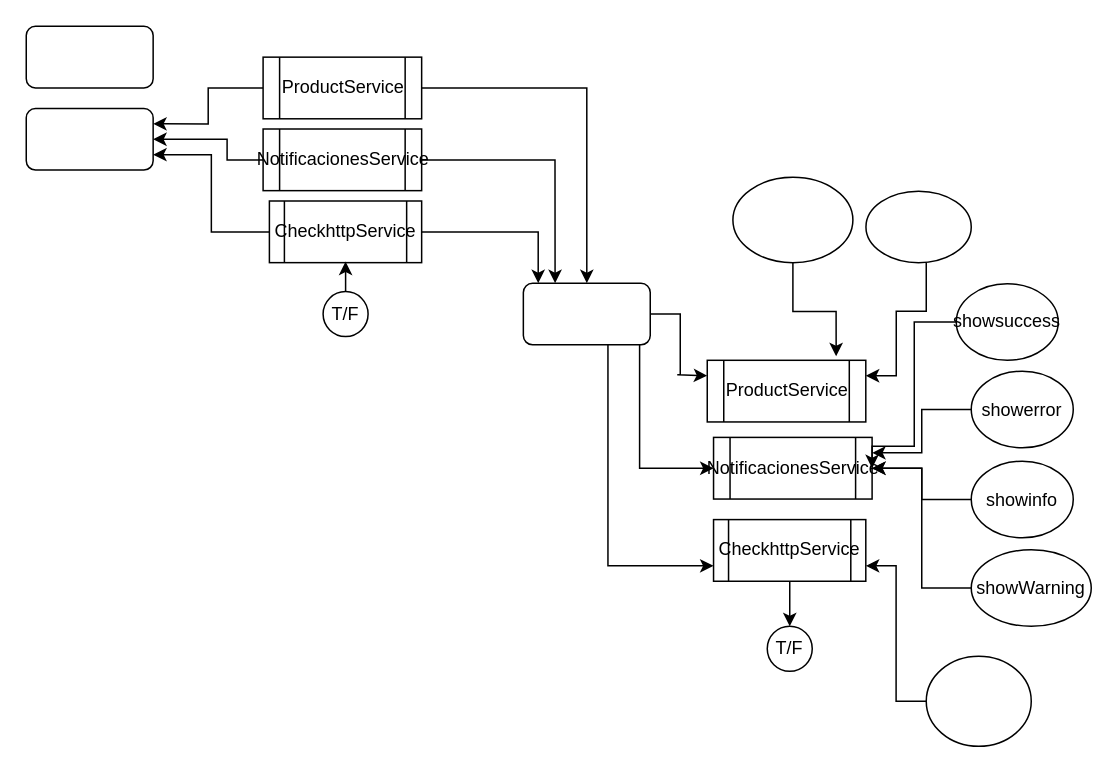
Some shapes in this 1118 by 773 pixel diagram are drawn without their labels. The centre of each missing label's shape, as x and y in pixels:
agregar Producto(): pixel 917 226
agregar-producto.ts: pixel 89 138
check Connection: pixel 978 700
GetProducts(): pixel 792 219
Html: pixel 89 56
Servicio: pixel 586 313
